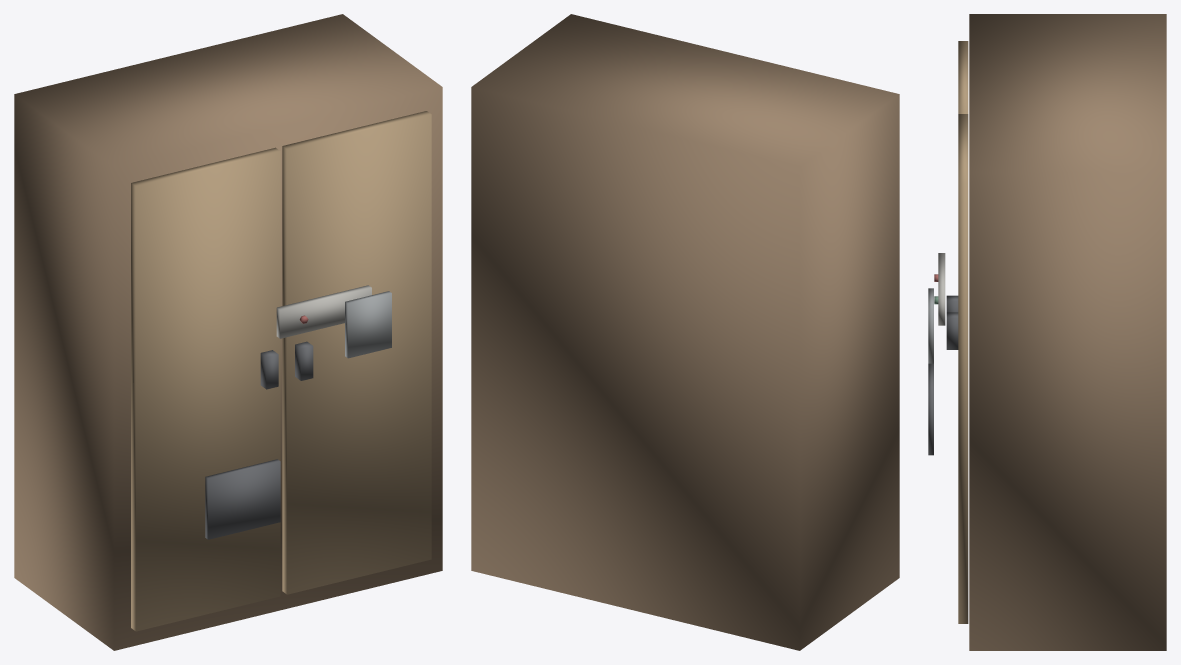
File: cupboard__weathered.glb
3 renders of one model, left to right at view 1: azimuth 30°, elevation 25°; view 2: azimuth 150°, elevation 25°; view 3: azimuth 270°, elevation 25°, orthographic.
Visible parts, largest first — view 1: world; view 2: world; view 3: world.
Part boxes in pixels (x1,y1,x2,y2): world: (14, 14, 442, 650); world: (471, 14, 899, 650); world: (928, 14, 1166, 650).
Size of the model in its own units: 0.95 by 1.34 by 0.6041.
